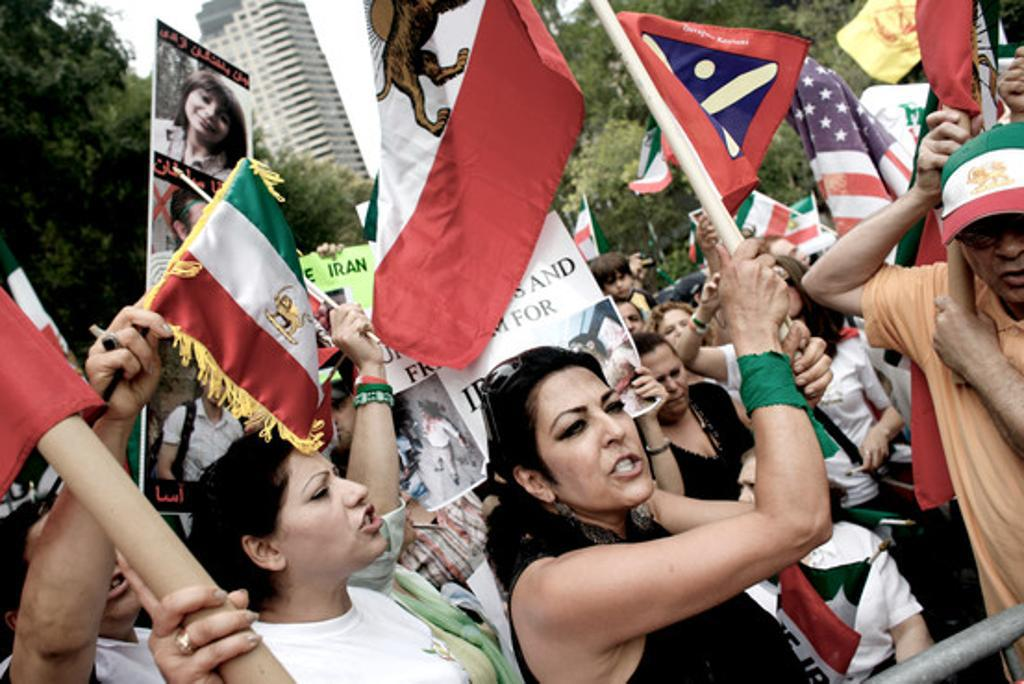face: (526, 368, 653, 509), (273, 446, 387, 557), (27, 509, 143, 614), (959, 212, 1024, 302), (636, 345, 688, 416), (738, 458, 775, 531), (315, 389, 357, 446), (186, 88, 230, 142), (763, 266, 803, 318), (657, 310, 700, 356), (769, 239, 814, 270), (613, 307, 643, 343), (207, 370, 227, 406), (606, 273, 633, 298), (572, 343, 592, 361), (423, 411, 432, 420)
